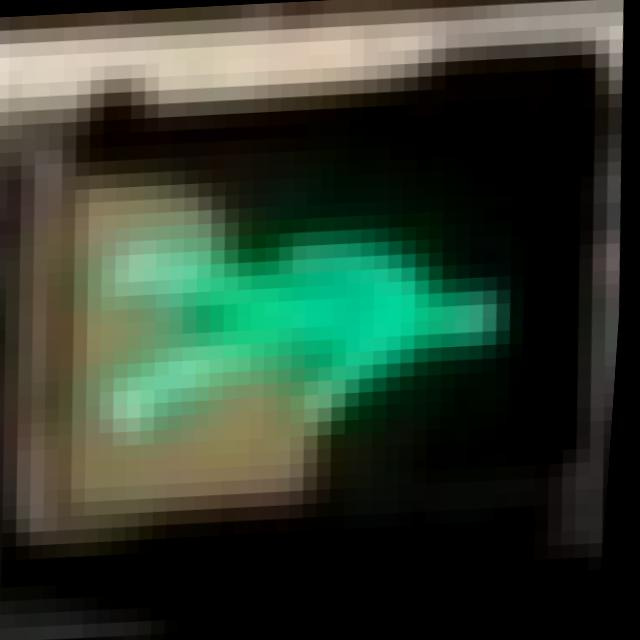green_light: (51, 168, 515, 448)
